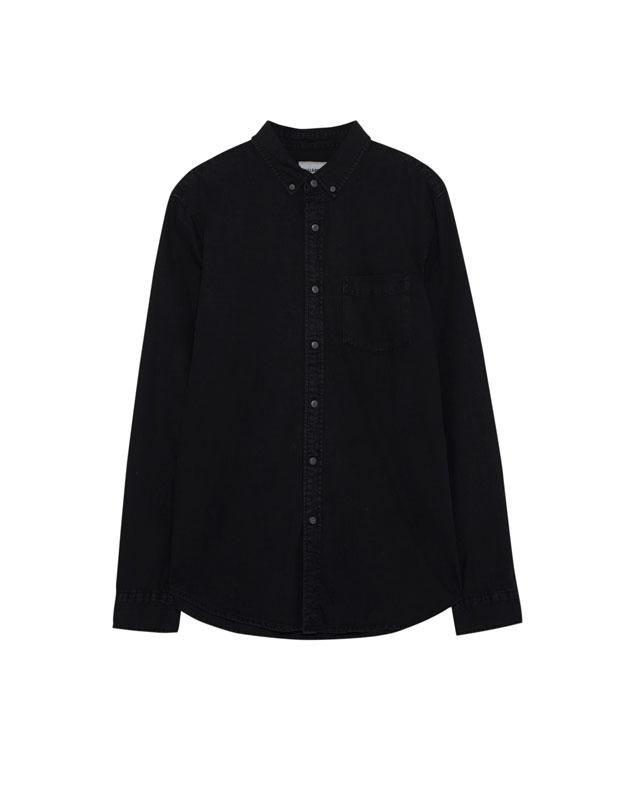teeshirt: (113, 120, 534, 661)
